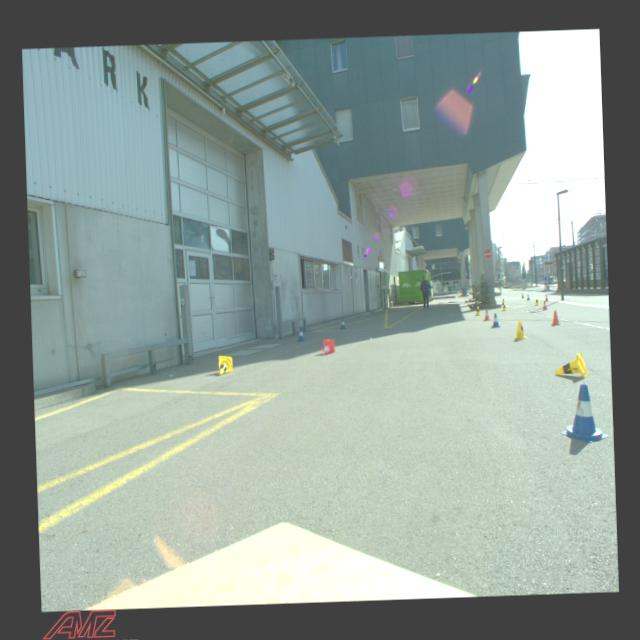blue_cone: (558, 382, 608, 443), (490, 312, 500, 328), (296, 327, 306, 341), (340, 318, 346, 329), (526, 293, 530, 300), (501, 298, 504, 305), (520, 293, 524, 298)
orange_cone: (322, 338, 334, 354), (550, 310, 562, 325), (483, 308, 491, 320), (542, 300, 548, 310), (544, 294, 548, 302)
yellow_cone: (554, 352, 588, 379), (512, 319, 528, 340), (218, 354, 232, 376), (474, 306, 480, 316), (501, 302, 506, 311), (534, 298, 539, 306)
